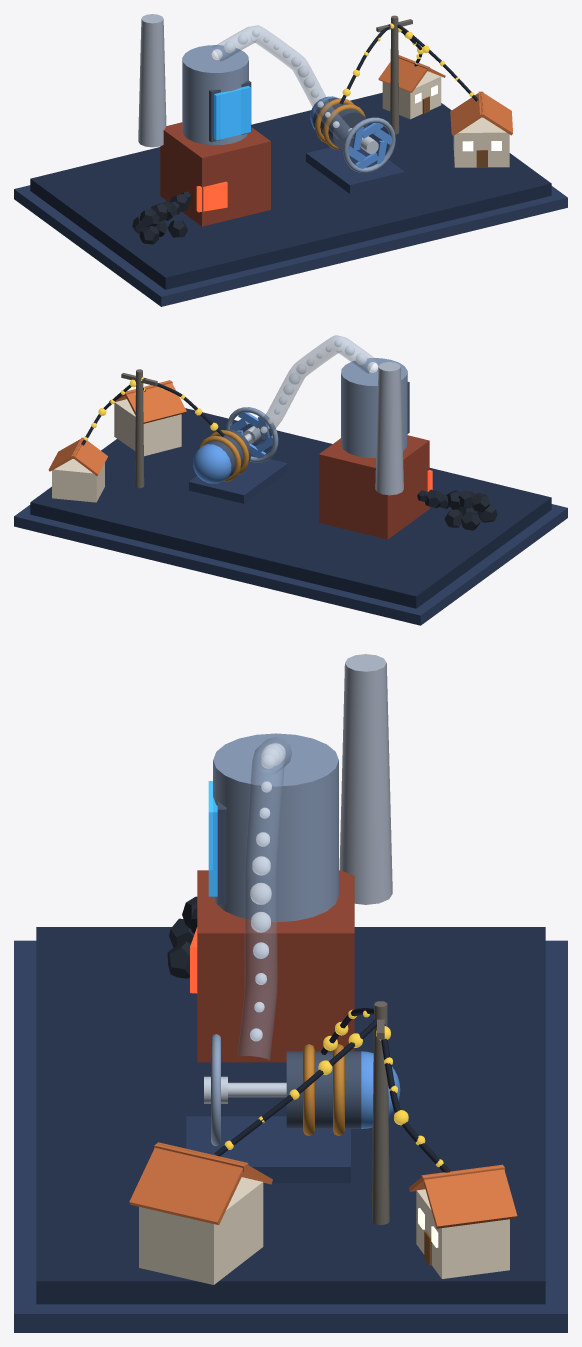
The model's file is energi-pltu.glb.
3 views of the same model, one above another, from view 1: azimuth 30°, elevation 25°; view 2: azimuth 150°, elevation 25°; view 3: azimuth 270°, elevation 25° (orthographic). The views are drawn at different scales.
Bounding box in the file's own units: 5.9 × 2.76 × 3.7.
